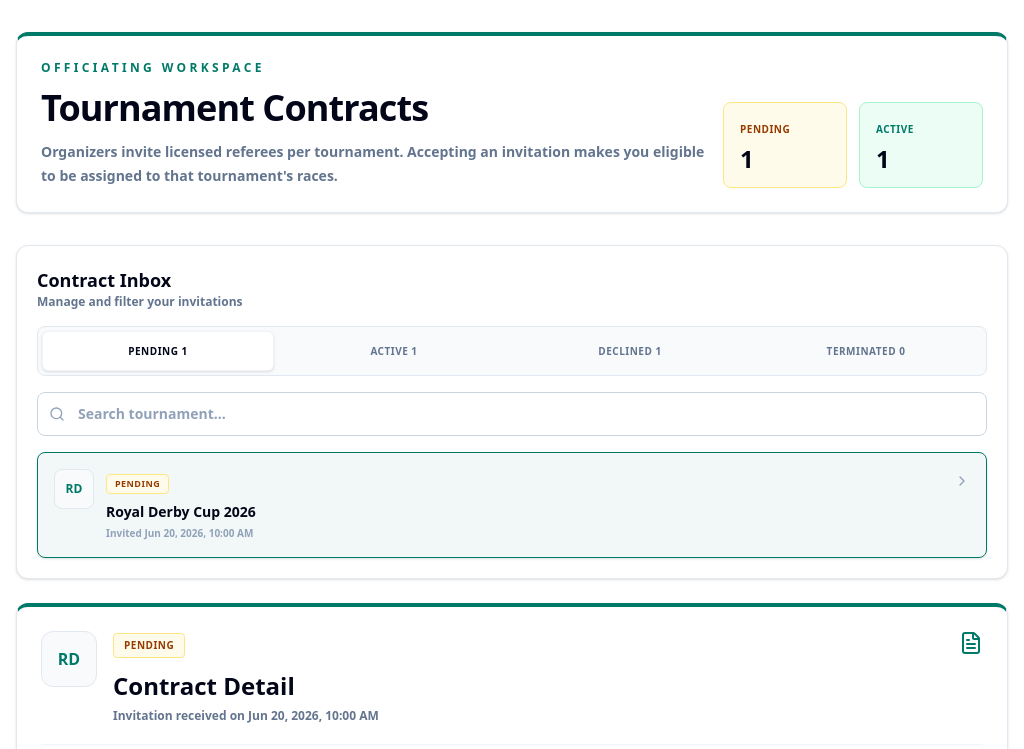
Test: RefereeContractsPage › supports status filters, search input, and contract list selection
The width and height of the screenshot is (1024, 749).
# Change search query
In the search field with placeholder "Search tournament...": (512, 414) [37, 392, 987, 436], type "Non-existent Tournament"
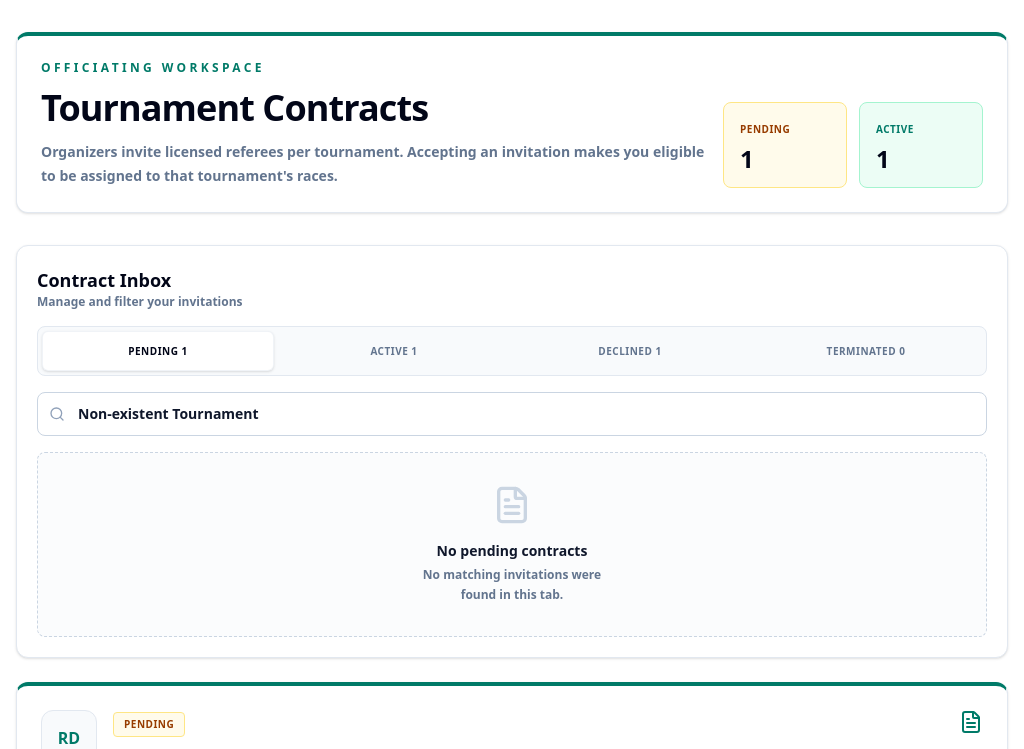
Expected: the button "royal derby cup 2026" is not shown
# Reset search
Clear the search field with placeholder "Search tournament...": (512, 414) [37, 392, 987, 436]
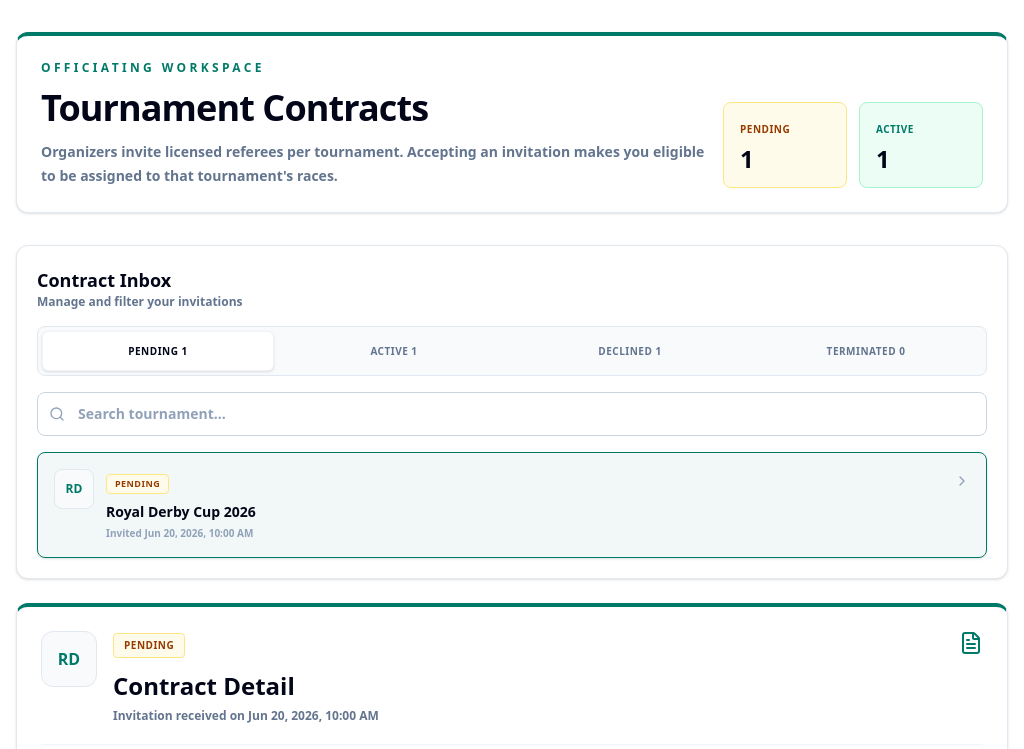
# Switch tab to Active
Click the tab "Active 1": (394, 351) [278, 331, 510, 371]
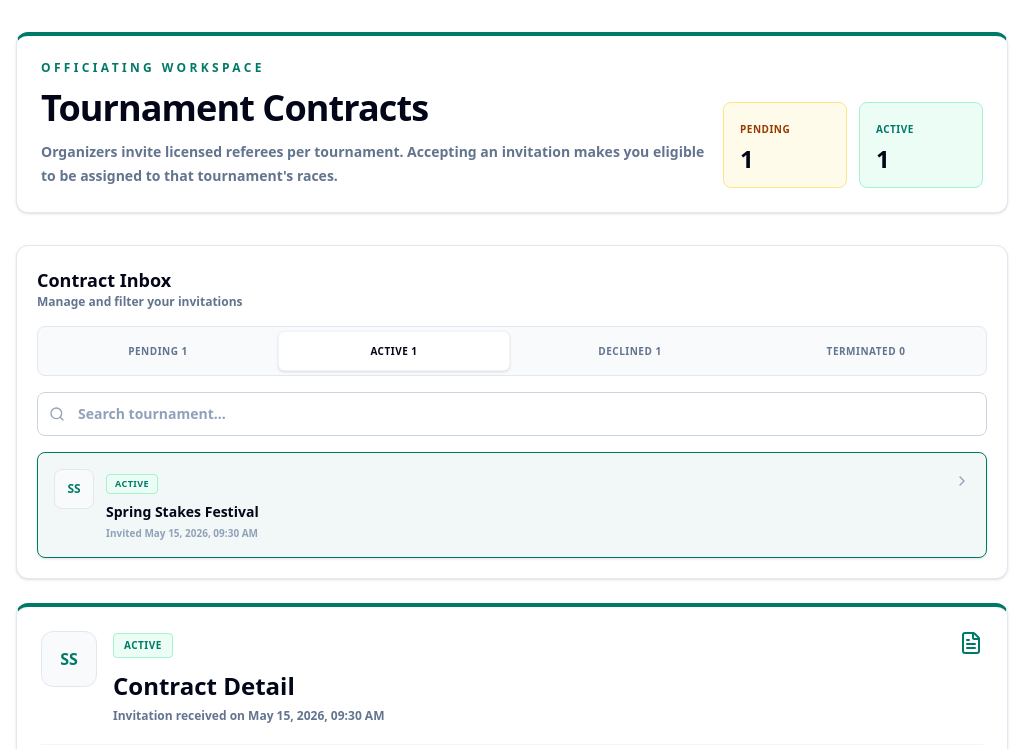
Expected: the button "Spring Stakes Festival" is shown, [37, 452, 987, 558]
